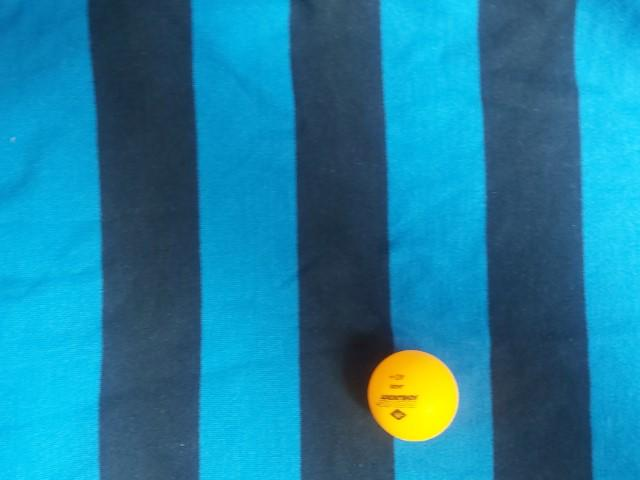oball: (173, 32, 277, 137)
